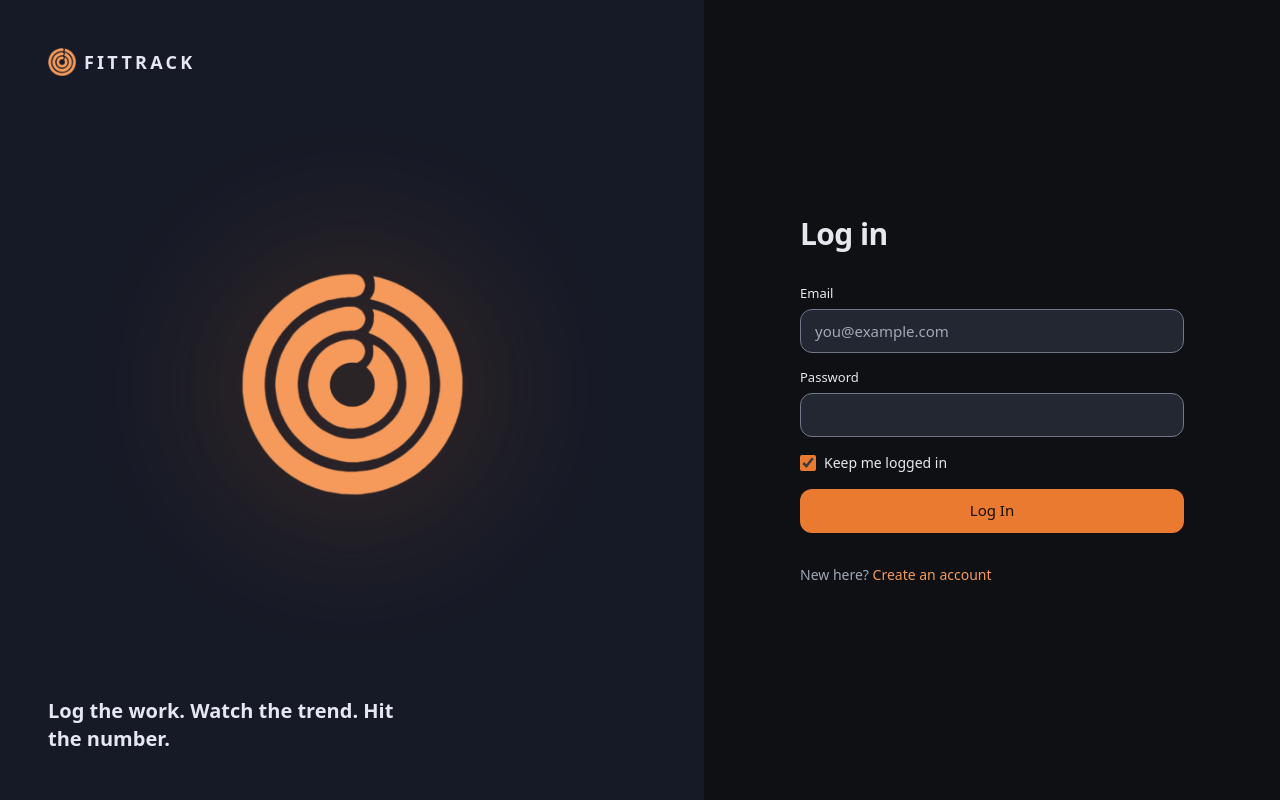
Test: LoginPage › shows the server error on bad credentials
This screenshot has width=1280, height=800.
Type "a@b.co" into the field labelled "Email" at (992, 331), box [800, 309, 1184, 353]
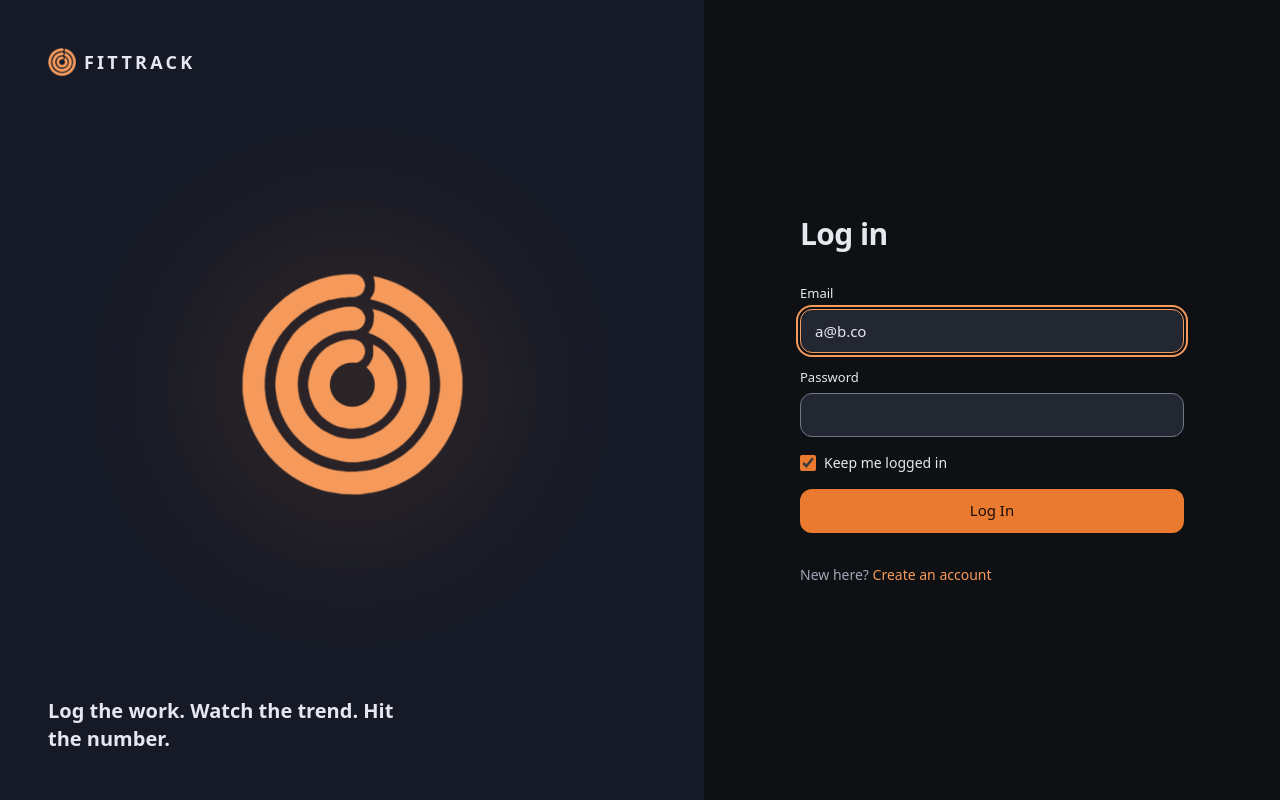
Type "wrong-password" into the password field labelled "Password" at (992, 415), box [800, 393, 1184, 437]
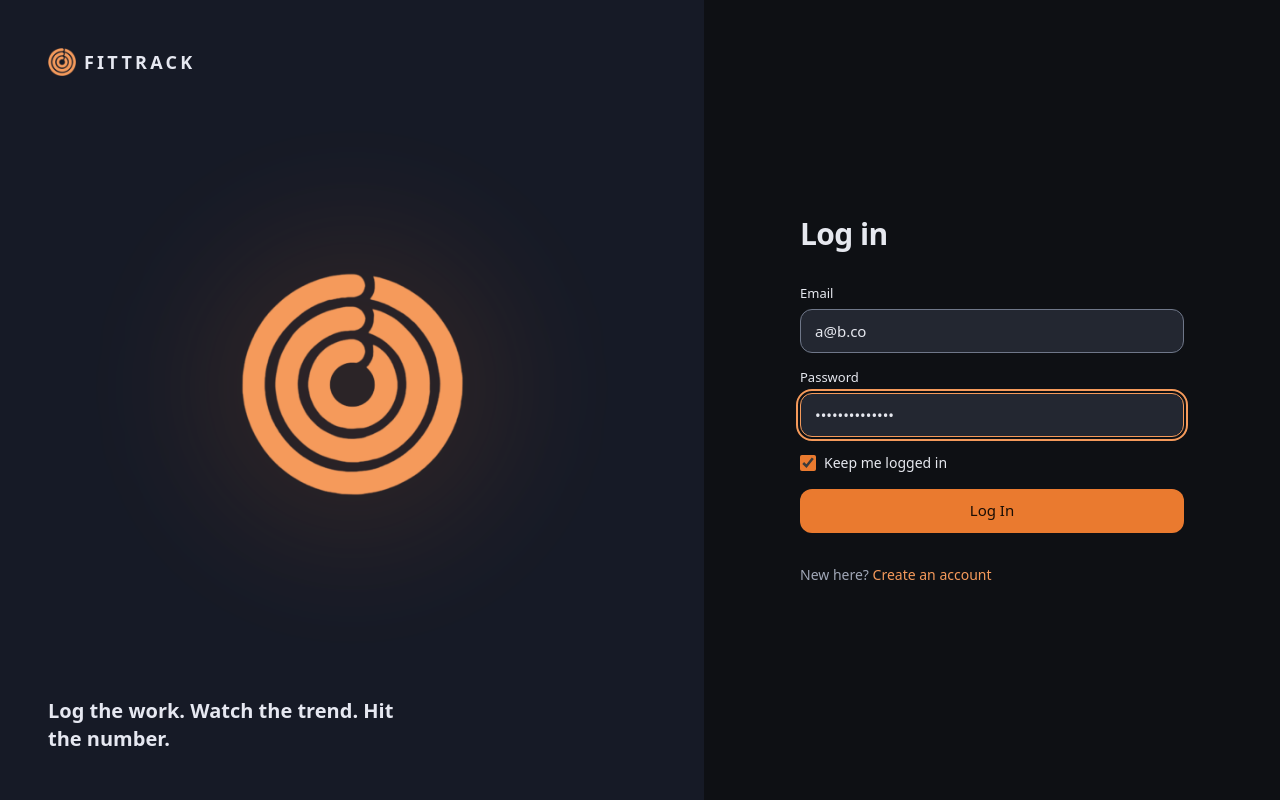
Click the button "Log In" at (992, 511), box [800, 489, 1184, 533]
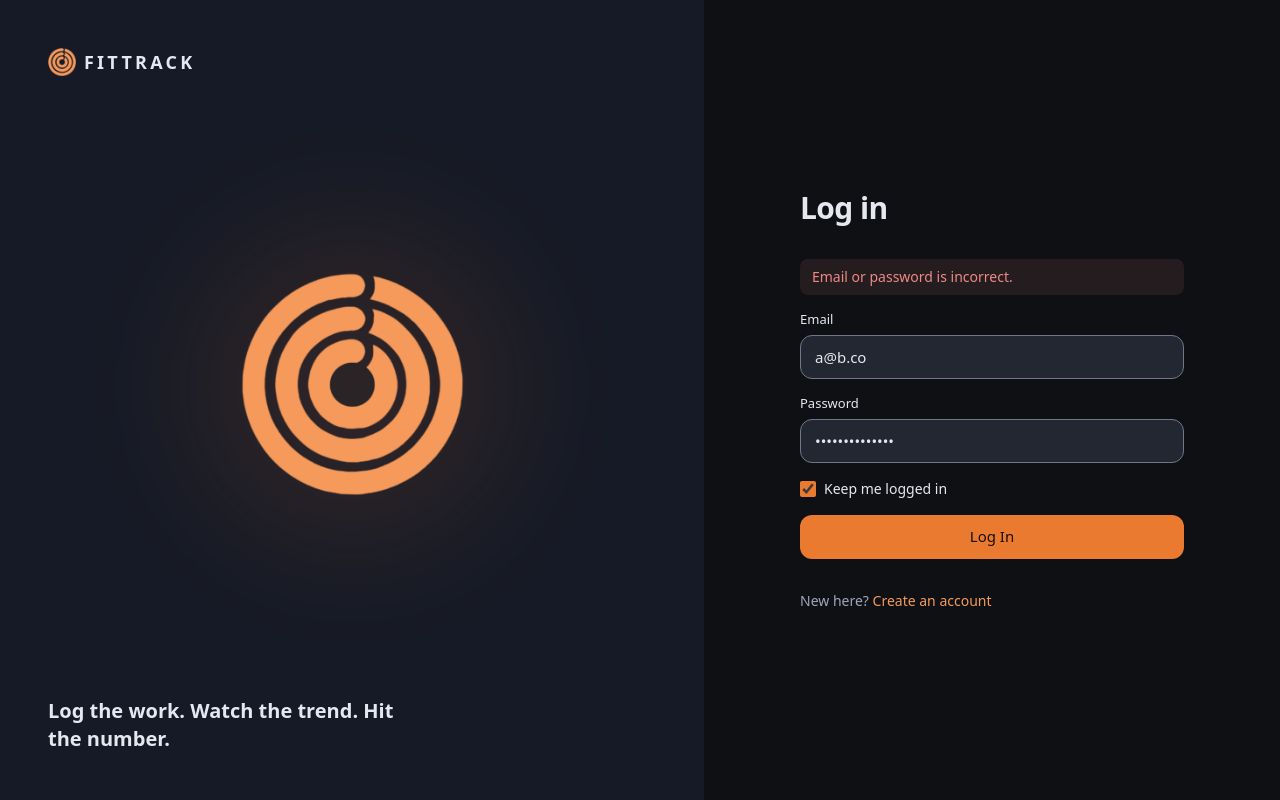
Check: the message reads "Email or password is incorrect.", box [812, 267, 1013, 286]
